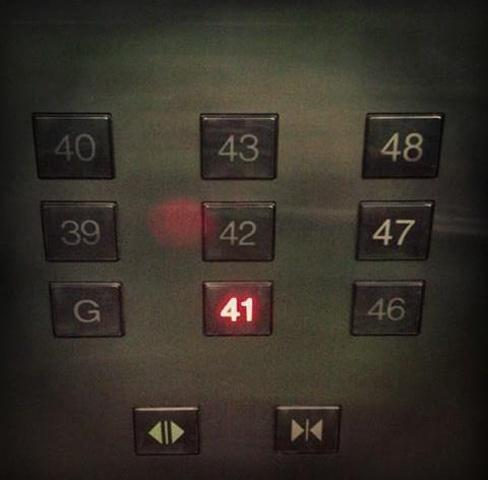39: (37, 196, 120, 261)
G: (45, 278, 127, 338)
close: (270, 401, 342, 454)
open: (129, 402, 202, 455)
unknown: (28, 109, 116, 180), (359, 109, 446, 179), (196, 109, 281, 180), (352, 197, 436, 260), (198, 197, 276, 261), (347, 276, 427, 337), (199, 277, 274, 337)
